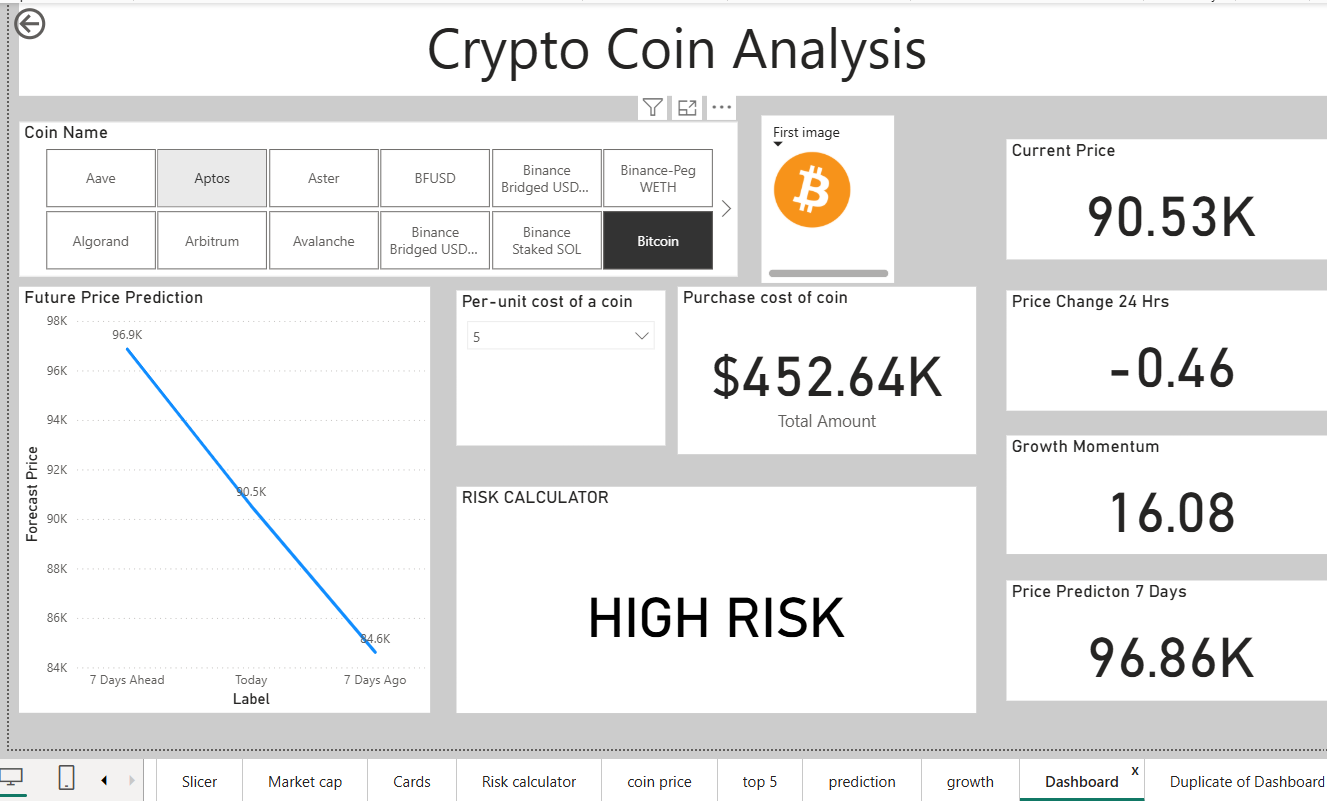

The dashboard page shown, as its layout file describes it:
{"tool":"powerbi","page":{"name":"Dashboard","canvas":[1280,720],"ordinal":9},"visuals":[{"type":"textbox","box":[9.7,0,1270.4,89.3],"z":0},{"type":"lineChart","title":"Future Price Prediction","fields":{"Category":["ForecastDates.Label"],"Y":["ExpectedIncrease.Forecast Price"]},"box":[9.7,273.9,396.9,411.4],"z":1000},{"type":"card","title":"Current Price","fields":{"Values":["Sum(crypto.current_price)"]},"box":[962.7,131.5,317.3,115.8],"z":2000},{"type":"card","title":"Price Change 24 Hrs","fields":{"Values":["Sum(crypto.price_change_percentage_24h)"]},"box":[962.7,277.5,317.3,115.8],"z":3000},{"type":"card","title":"Price Predicton 7 Days","fields":{"Values":["ExpectedIncrease.Future Price 7D"]},"box":[962.7,557.4,317.3,115.8],"z":4000},{"type":"slicer","title":"Coin Name","fields":{"Values":["crypto.name"]},"box":[9.7,114.6,693.7,149.6],"z":5000},{"type":"slicer","title":"Per-unit cost of a coin","fields":{"Values":["Quantity_Input.Value"]},"box":[431.9,277.5,201.5,149.6],"z":6000},{"type":"card","title":"Growth Momentum","fields":{"Values":["crypto.Growth Momentum"]},"box":[962.7,417.4,317.3,114.6],"z":7000},{"type":"card","title":"Purchase cost of coin","fields":{"Values":["crypto.Total Amount"]},"box":[645.4,273.9,288.3,161.7],"z":8000},{"type":"card","title":"RISK CALCULATOR","fields":{"Values":["Min(crypto.RISK)"]},"box":[431.9,466.9,501.9,218.4],"z":9000},{"type":"actionButton","box":[0,0,100,40],"z":10000},{"type":"tableEx","fields":{"Values":["Min(crypto.image)"]},"box":[726.3,108.6,127.9,161.7],"z":11000}]}

Visuals, with their boxes on the page's 1280x720 design canvas (x1, y1, x2, y2). These are canvas units, not pixel positions in the 1327x801 screenshot, which may show the page scaled, cropped or inside an application window:
textbox: x1=10, y1=0, x2=1280, y2=89
"Future Price Prediction" lineChart: x1=10, y1=274, x2=407, y2=685
"Current Price" card: x1=963, y1=132, x2=1280, y2=247
"Price Change 24 Hrs" card: x1=963, y1=278, x2=1280, y2=393
"Price Predicton 7 Days" card: x1=963, y1=557, x2=1280, y2=673
"Coin Name" slicer: x1=10, y1=115, x2=703, y2=264
"Per-unit cost of a coin" slicer: x1=432, y1=278, x2=633, y2=427
"Growth Momentum" card: x1=963, y1=417, x2=1280, y2=532
"Purchase cost of coin" card: x1=645, y1=274, x2=934, y2=436
"RISK CALCULATOR" card: x1=432, y1=467, x2=934, y2=685
actionButton: x1=0, y1=0, x2=100, y2=40
tableEx - Min(crypto.image): x1=726, y1=109, x2=854, y2=270
